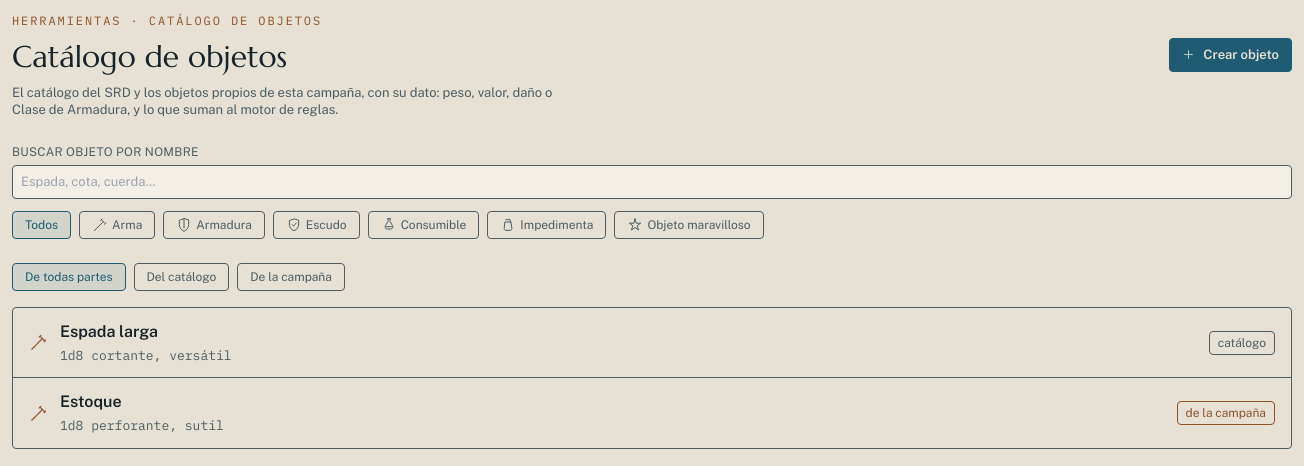
Test: CampaignItemsCatalogPage — lista › la búsqueda filtra la lista, y es de cliente sobre lo que el servidor ya mandó
Expected: the text "Estoque" is shown, left=60, top=392, right=122, bottom=411
Type "espada" into the search field labelled "Buscar objeto por nombre" at (652,182), box left=12, top=165, right=1292, bottom=199
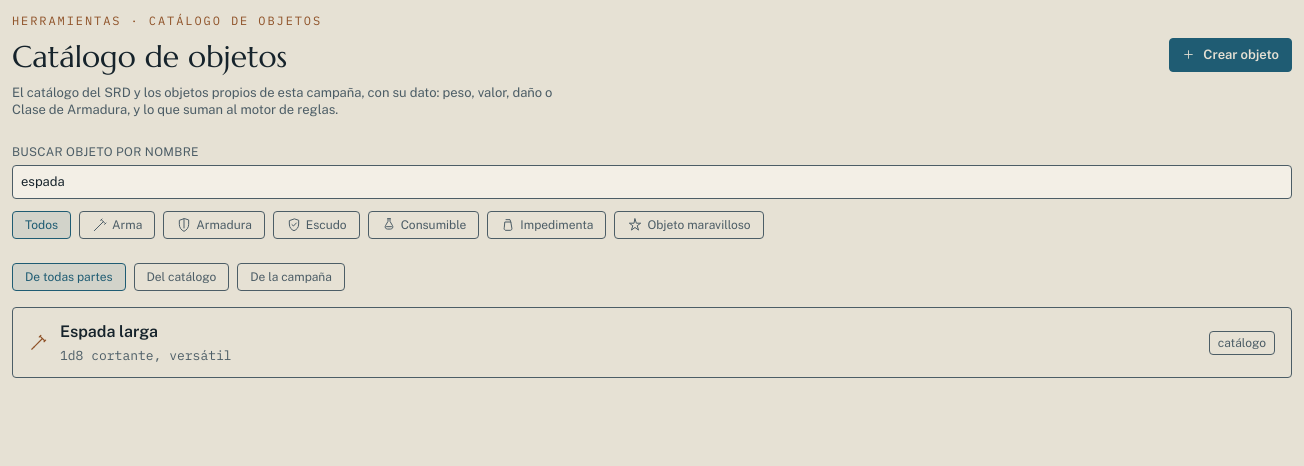
Expected: the text "Espada larga" is shown, left=60, top=322, right=158, bottom=341
Expected: the button "Estoque" is gone
